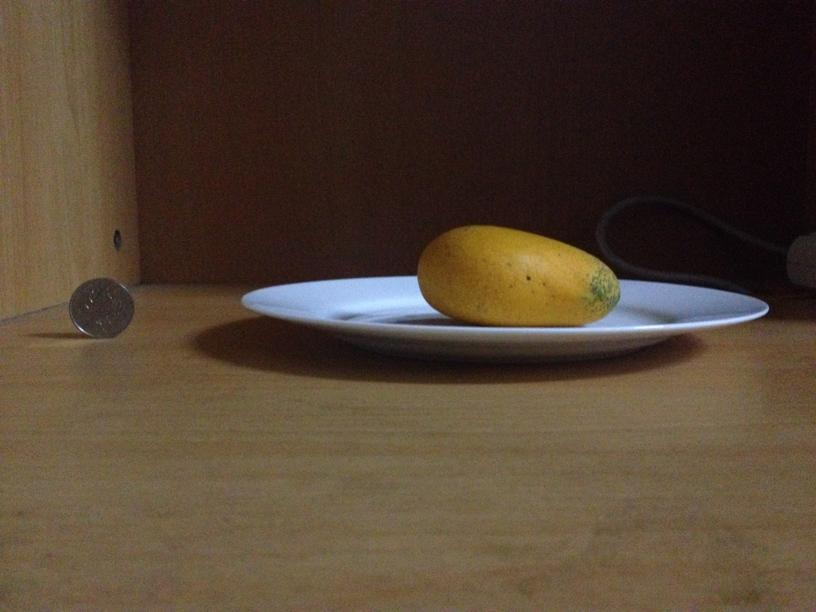coin: (66, 276, 136, 339)
mango: (417, 227, 617, 325)
